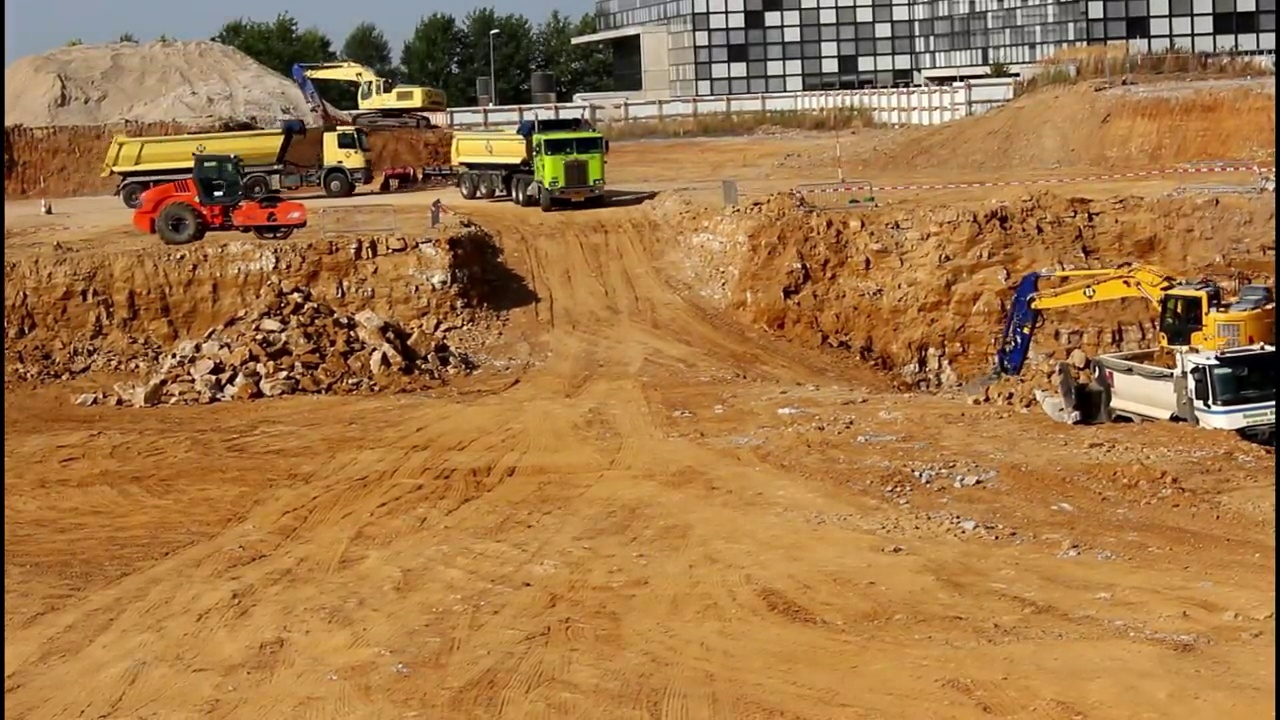compactor: (134, 152, 312, 245)
excavator: (958, 261, 1280, 412), (288, 55, 450, 137)
truck: (1088, 340, 1280, 471), (100, 123, 372, 213), (444, 114, 615, 212)
